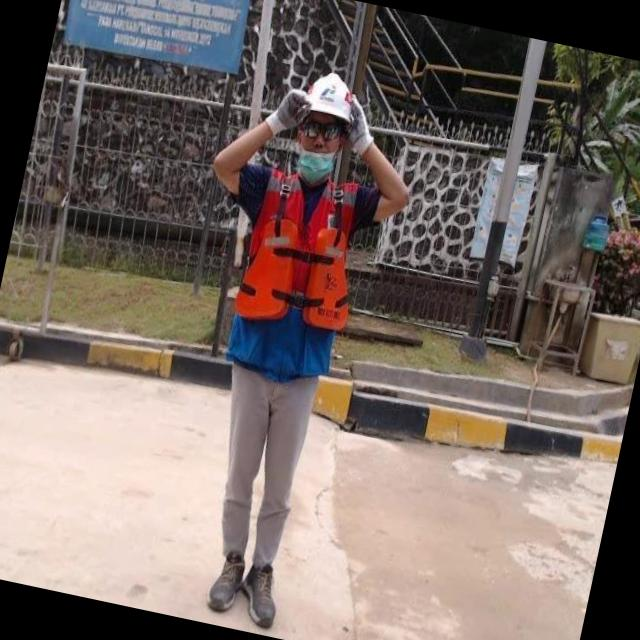hard_hat: (300, 67, 360, 127)
safety_vest: (222, 161, 374, 383)
work_boots: (232, 551, 289, 632), (204, 546, 249, 616)
